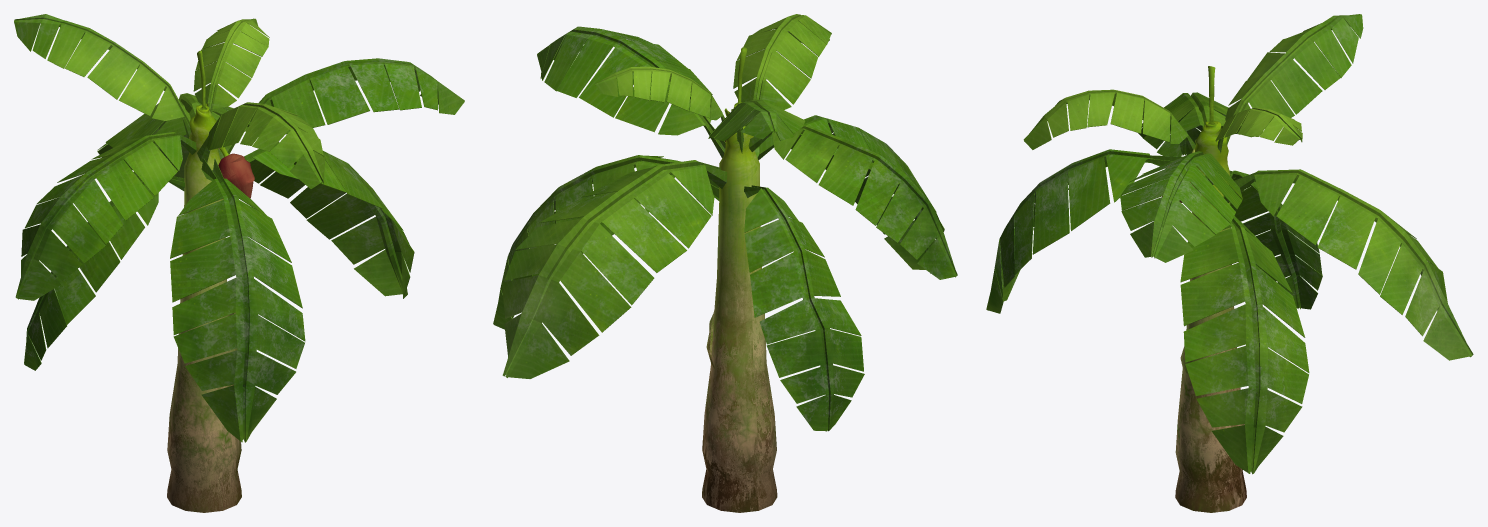
Rendered from banana_tree_-_low_polygon.glb.
The picture shows the model from 3 angles, left to right: view 1: azimuth 30°, elevation 25°; view 2: azimuth 150°, elevation 25°; view 3: azimuth 270°, elevation 25°; orthographic projection. The views are drawn at different scales.
Parts seen in each view (by area): view 1: LaChuoi, Than, HoaChuoi; view 2: LaChuoi, Than; view 3: LaChuoi, Than.
Part boxes in pixels (x1,y1,x2,y2): LaChuoi: (14,14,464,442); Than: (167,50,241,512); HoaChuoi: (218,145,254,198); LaChuoi: (493,14,957,431); Than: (702,47,777,512); LaChuoi: (986,14,1473,474); Than: (1175,66,1246,512).
Size of the model in its own units: 12.69 by 12.75 by 12.86.
Materials: 4 (4 with a texture image).
